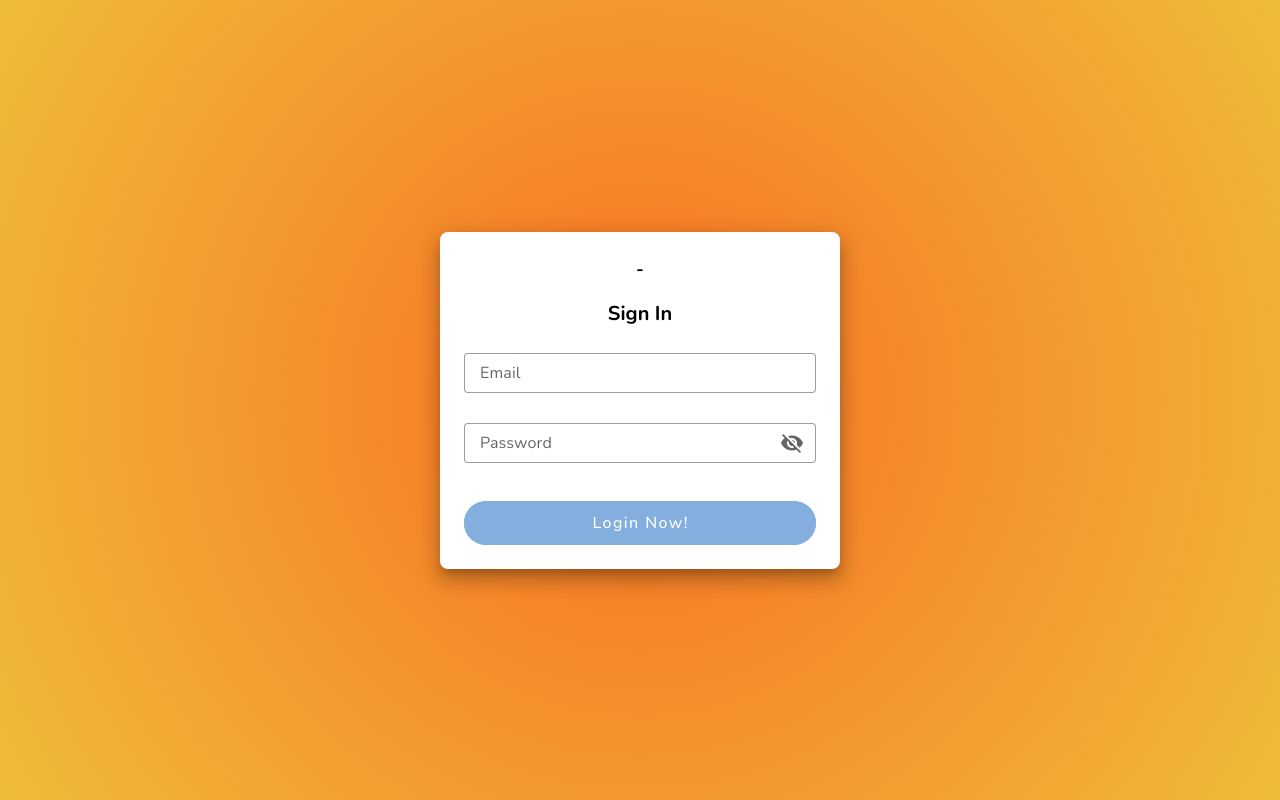
Login Page › Error validation FE
Focus the field labelled "Email" at (634, 372), box x1=464 y1=352 x2=804 y2=392
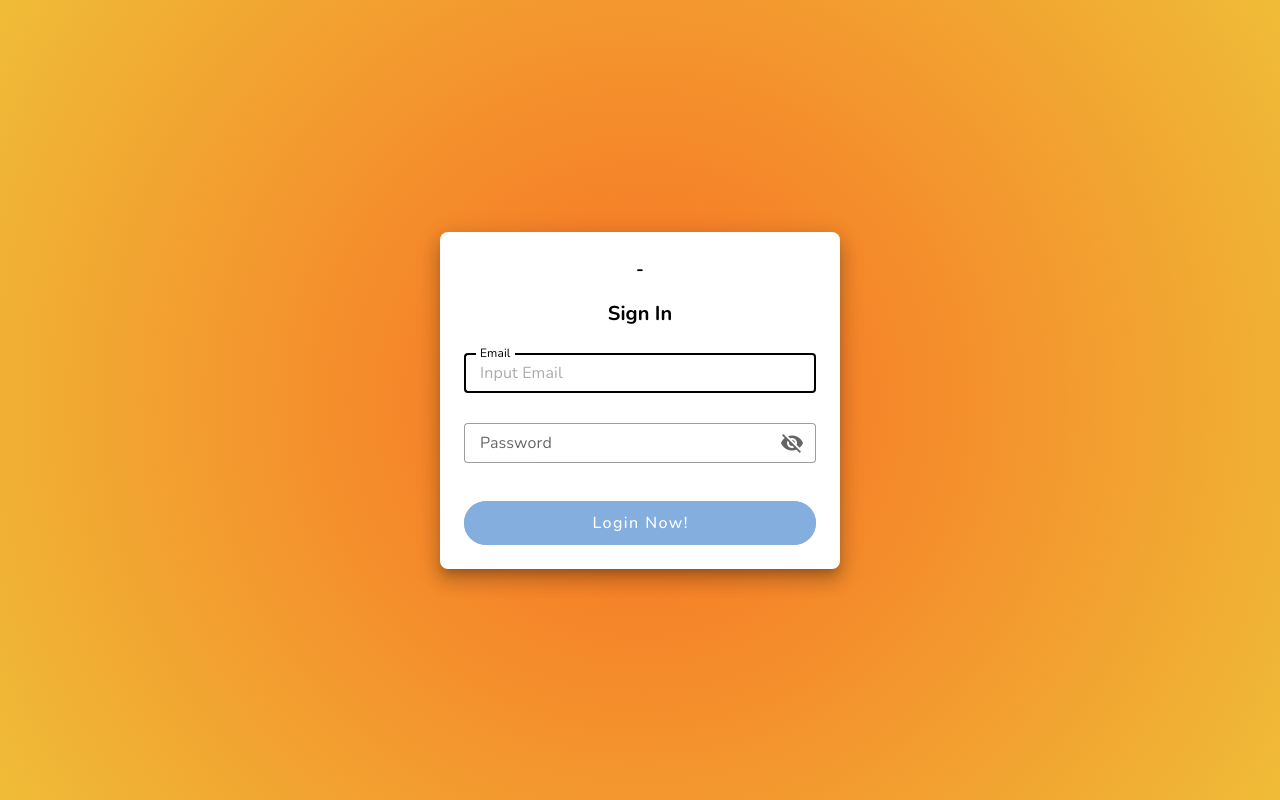
Leave the field labelled "Email", box x1=464 y1=352 x2=804 y2=392
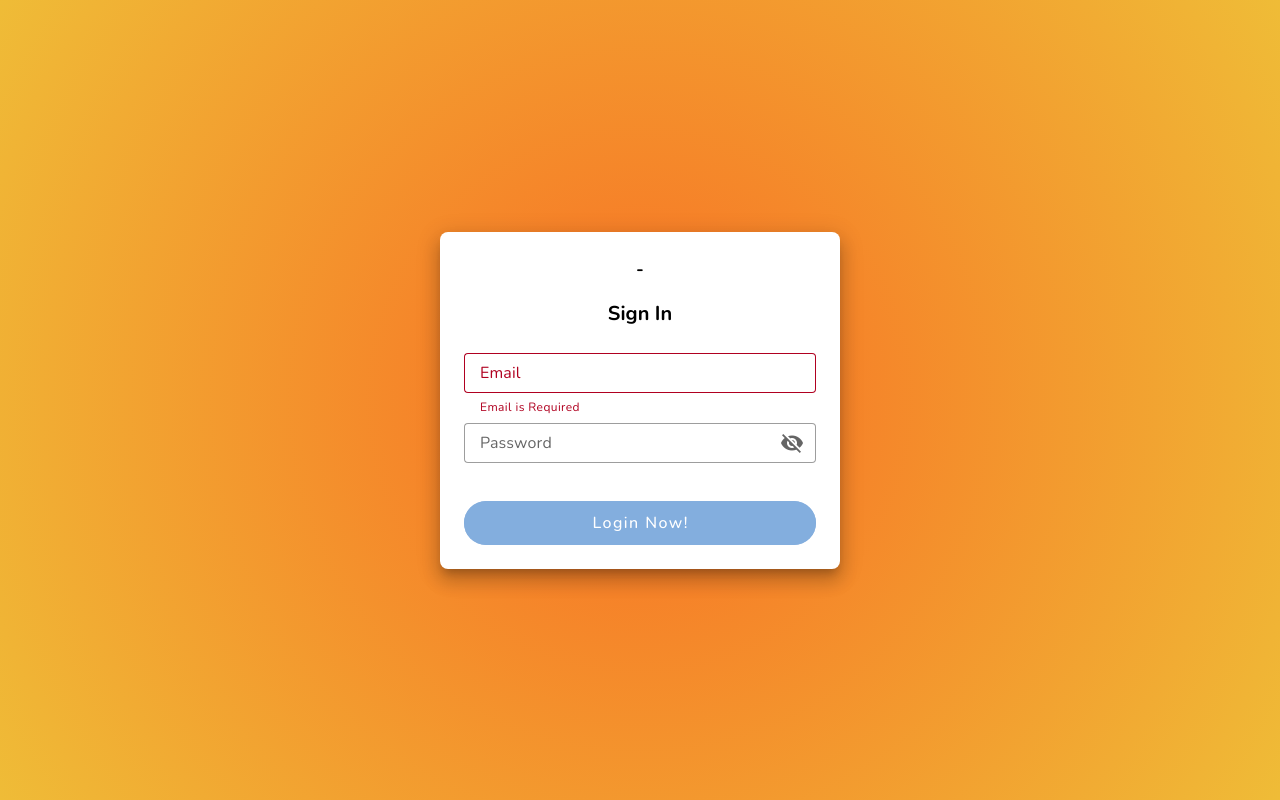
Now the element with test id "email-field" shows "Email is Required", box x1=480 y1=398 x2=580 y2=414
Type "user" into the field labelled "Email".
click(634, 372); type("user")  # box x1=464 y1=352 x2=804 y2=392
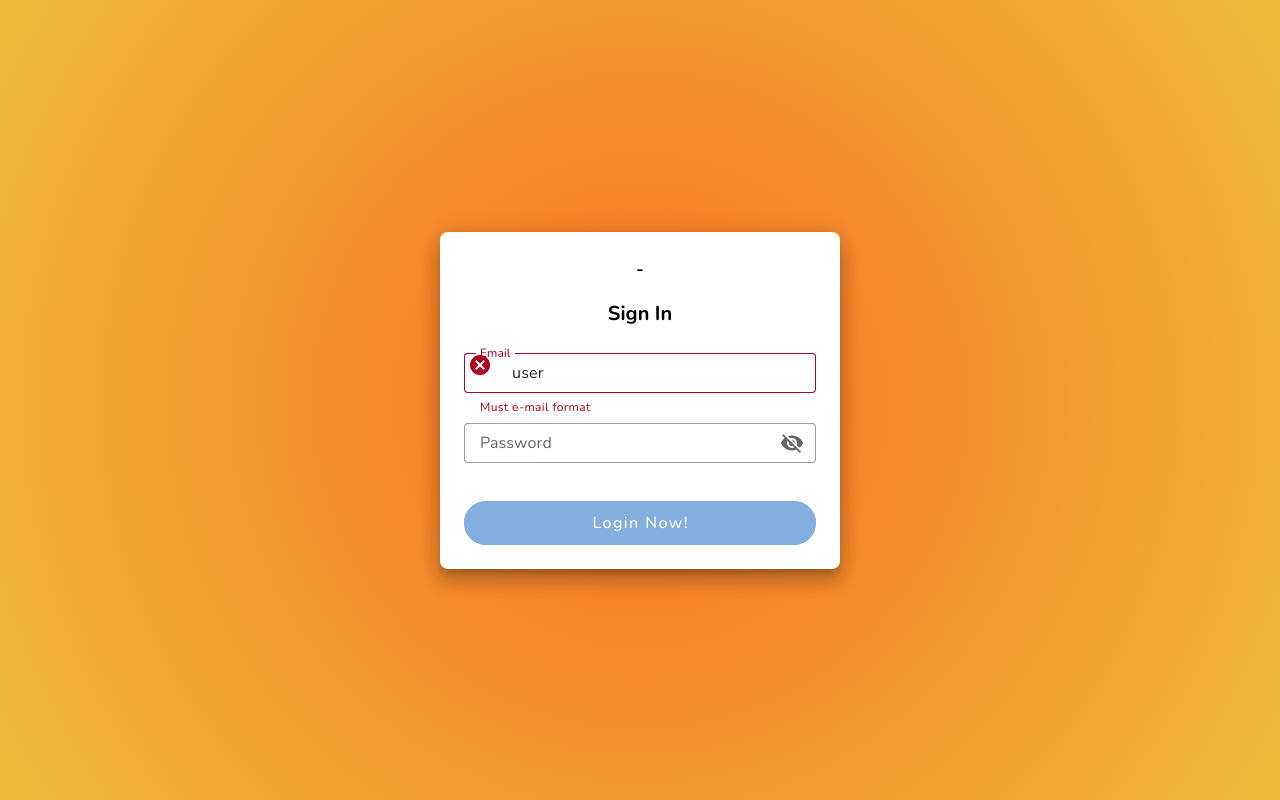
Now the element with test id "email-field" shows "Must e-mail format", box x1=480 y1=398 x2=590 y2=414
Focus the password field labelled "Password" at (622, 442), box x1=464 y1=422 x2=780 y2=462
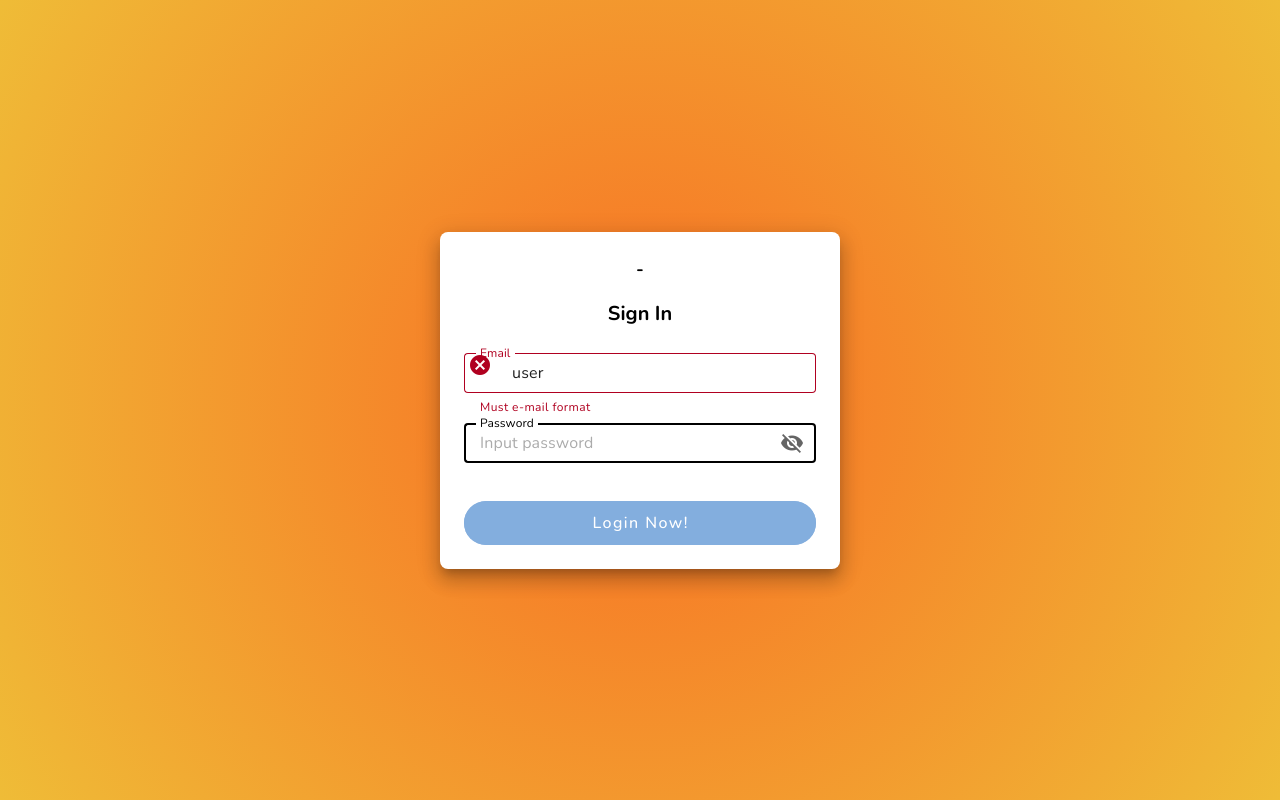
Leave the password field labelled "Password", box x1=464 y1=422 x2=780 y2=462
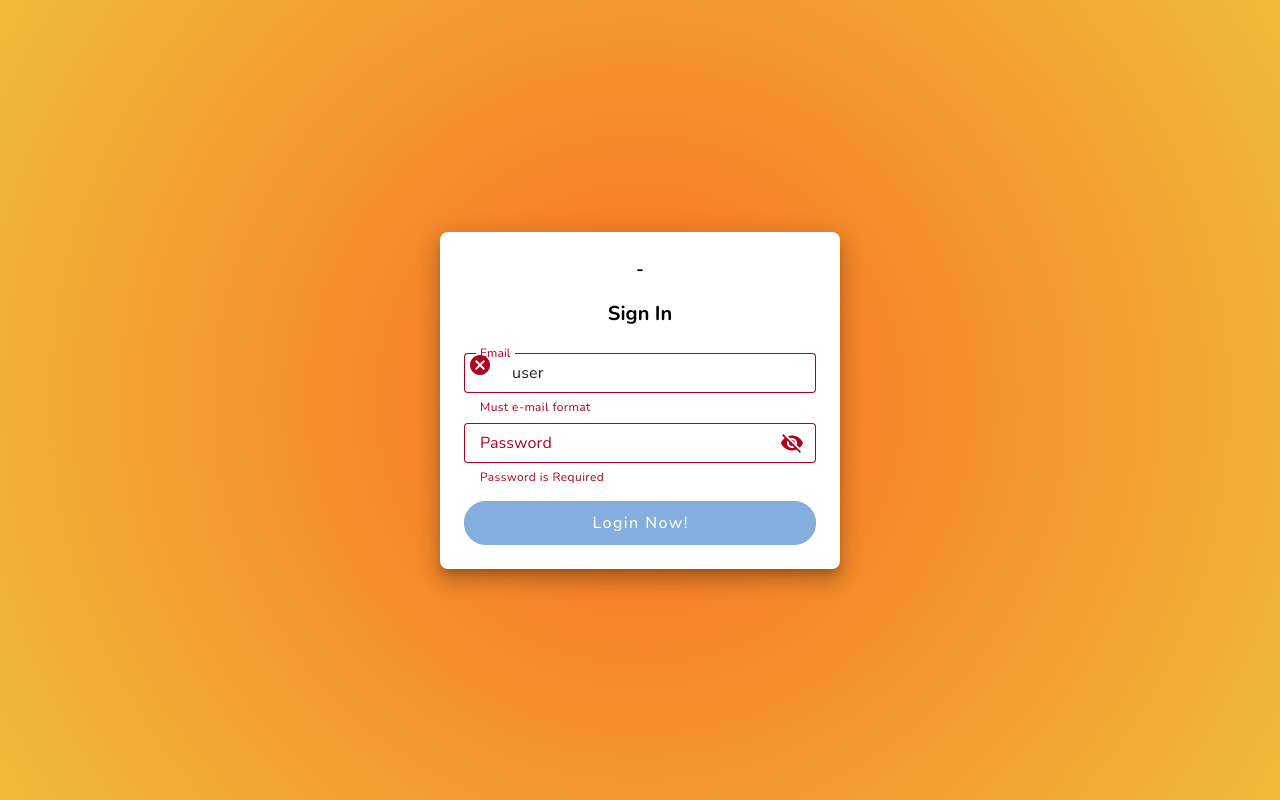
Now the element with test id "password-field" shows "Password is Required", box x1=480 y1=468 x2=604 y2=484
